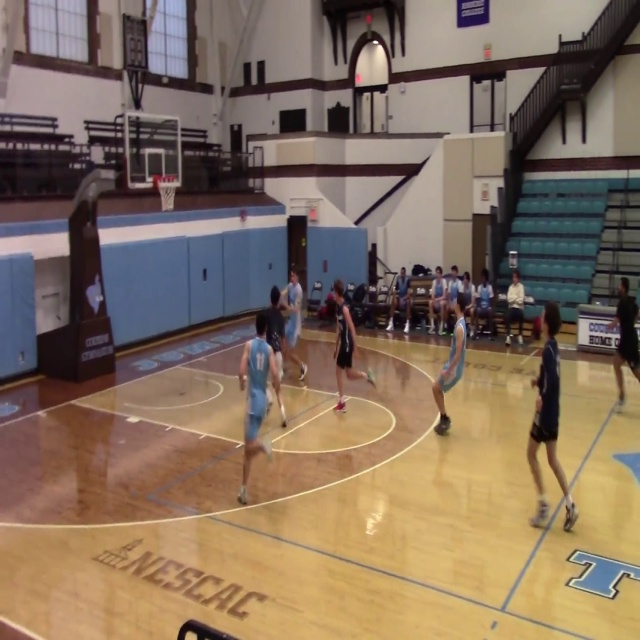Basketball: (453, 317, 466, 342)
